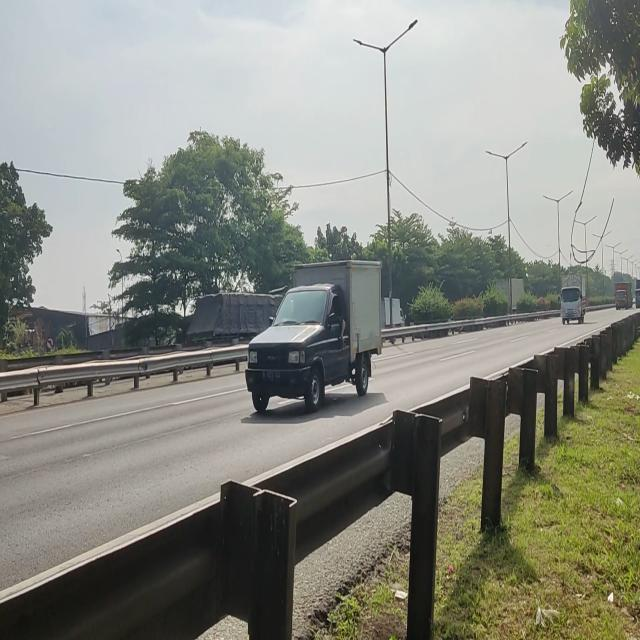Golongan I: (242, 256, 384, 414)
